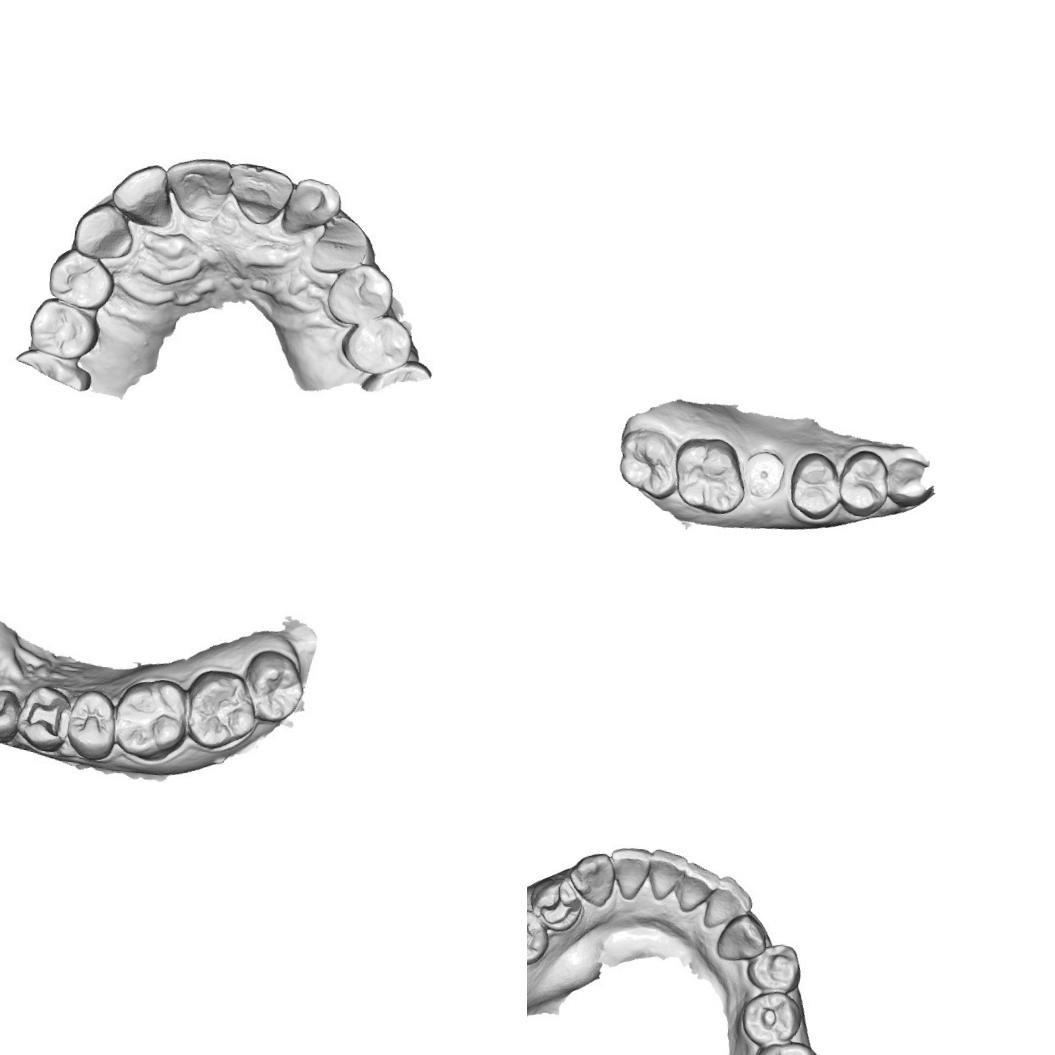canine: (308, 208, 374, 273), (72, 206, 140, 266), (883, 452, 938, 511), (717, 910, 771, 966), (569, 849, 618, 909), (0, 684, 24, 745)
implant: (742, 448, 788, 501)
incisor: (111, 164, 182, 230), (226, 158, 291, 230), (166, 154, 233, 218), (281, 178, 336, 242), (700, 872, 754, 931), (606, 840, 652, 902), (642, 846, 689, 904), (670, 860, 716, 916)
inlay: (24, 690, 74, 743), (537, 876, 586, 928)
molar: (178, 664, 266, 755), (112, 672, 194, 766), (669, 433, 750, 517), (236, 643, 310, 728), (614, 424, 684, 502), (742, 1037, 827, 1055)
premolar: (24, 292, 106, 364), (322, 259, 396, 329), (343, 316, 419, 382), (45, 249, 120, 315), (786, 449, 846, 522), (836, 447, 892, 520), (737, 988, 803, 1049), (744, 939, 804, 997), (65, 692, 118, 757), (527, 906, 551, 969)
